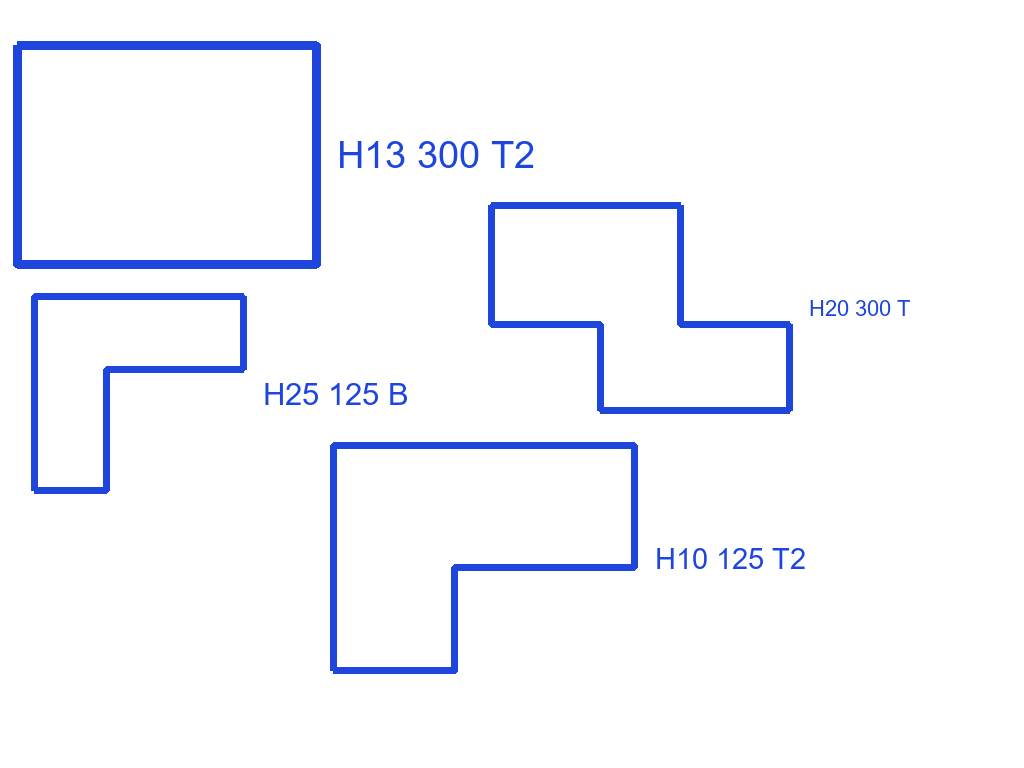shape: (328, 440, 640, 676), (11, 39, 323, 271), (486, 200, 795, 416), (29, 291, 249, 496)
text: (335, 139, 537, 170), (261, 381, 411, 407), (653, 546, 808, 571), (807, 298, 912, 318)
